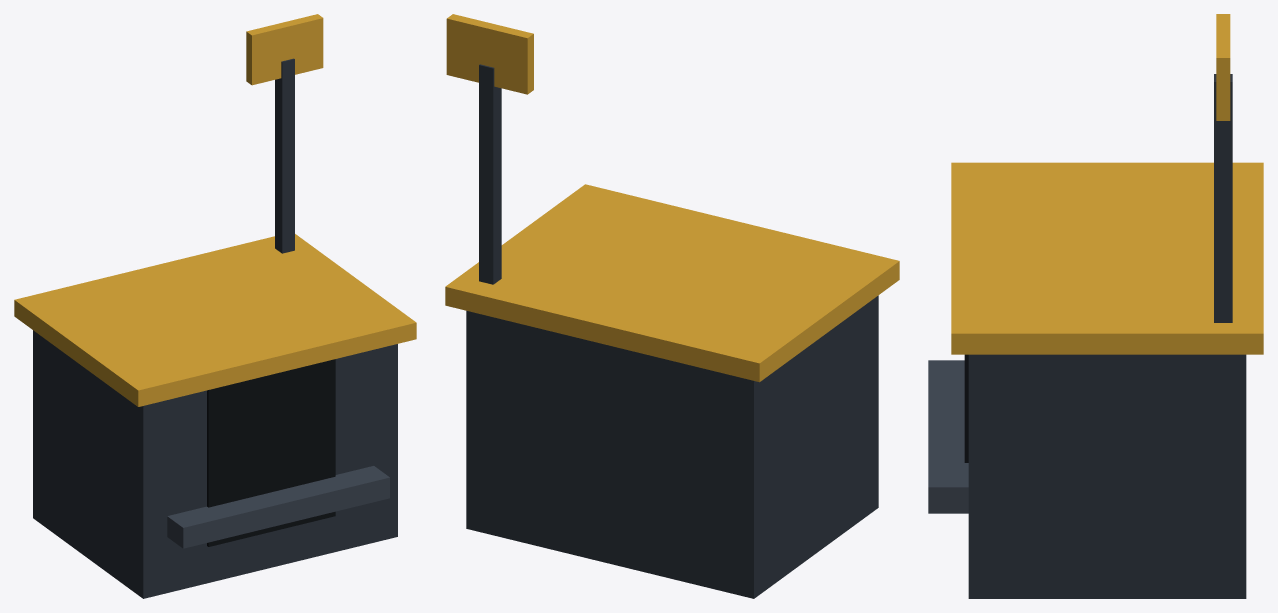
The model's file is mobile.glb.
3 views of the same model, side by side, from view 1: azimuth 30°, elevation 25°; view 2: azimuth 150°, elevation 25°; view 3: azimuth 270°, elevation 25° (orthographic). The views are drawn at different scales.
Visible parts, largest first — view 1: transit-entrance; view 2: transit-entrance; view 3: transit-entrance.
Part boxes in pixels (x1,y1,x2,y2): transit-entrance: (14, 14, 416, 598); transit-entrance: (445, 14, 899, 598); transit-entrance: (928, 14, 1263, 598).
Size of the model in its own units: 3.65 by 5.3 by 2.9.
